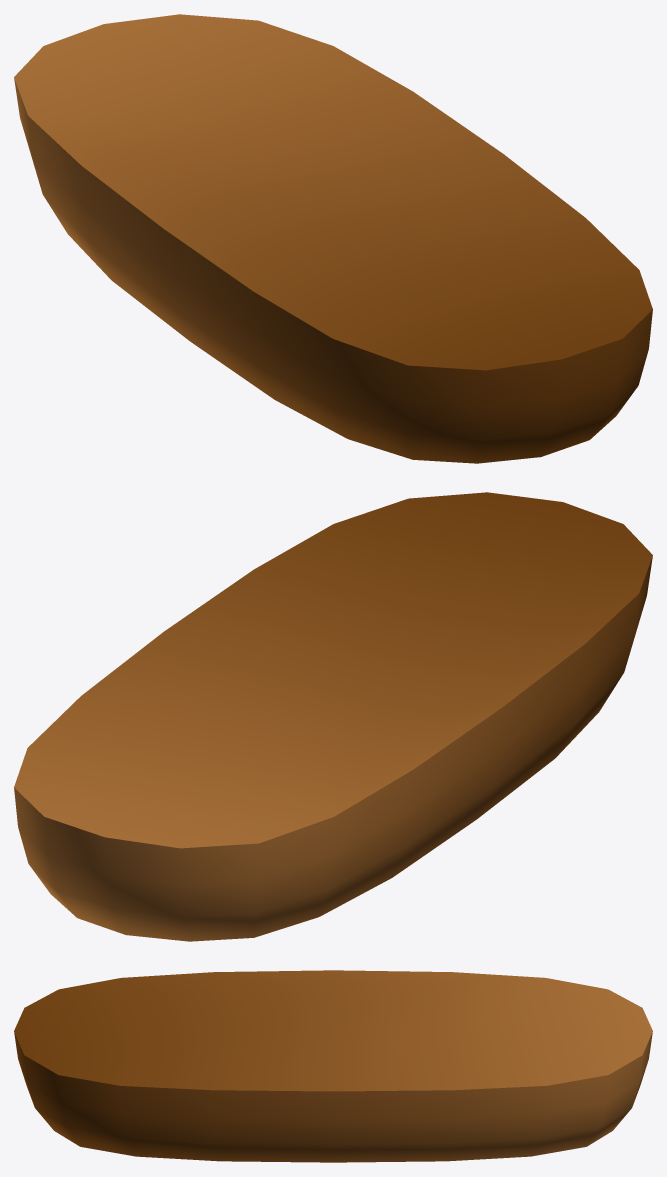
Rendered from Bread_2 Tall Half_1.fbx.
The picture shows the model from 3 angles, top to bottom: view 1: azimuth 30°, elevation 25°; view 2: azimuth 150°, elevation 25°; view 3: azimuth 270°, elevation 25°; orthographic projection. The views are drawn at different scales.
Parts seen in each view (by area): view 1: Bread_2 Tall Half_1; view 2: Bread_2 Tall Half_1; view 3: Bread_2 Tall Half_1.
Part boxes in pixels (left/top/right/bottom): Bread_2 Tall Half_1: left=14, top=14, right=652, bottom=463; Bread_2 Tall Half_1: left=14, top=492, right=652, bottom=941; Bread_2 Tall Half_1: left=14, top=970, right=652, bottom=1162.
Bounding box in the file's own units: 0.089 × 0.031 × 0.2078.
